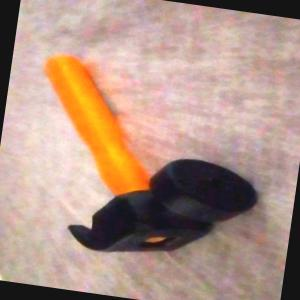martelo: (12, 49, 278, 274)
